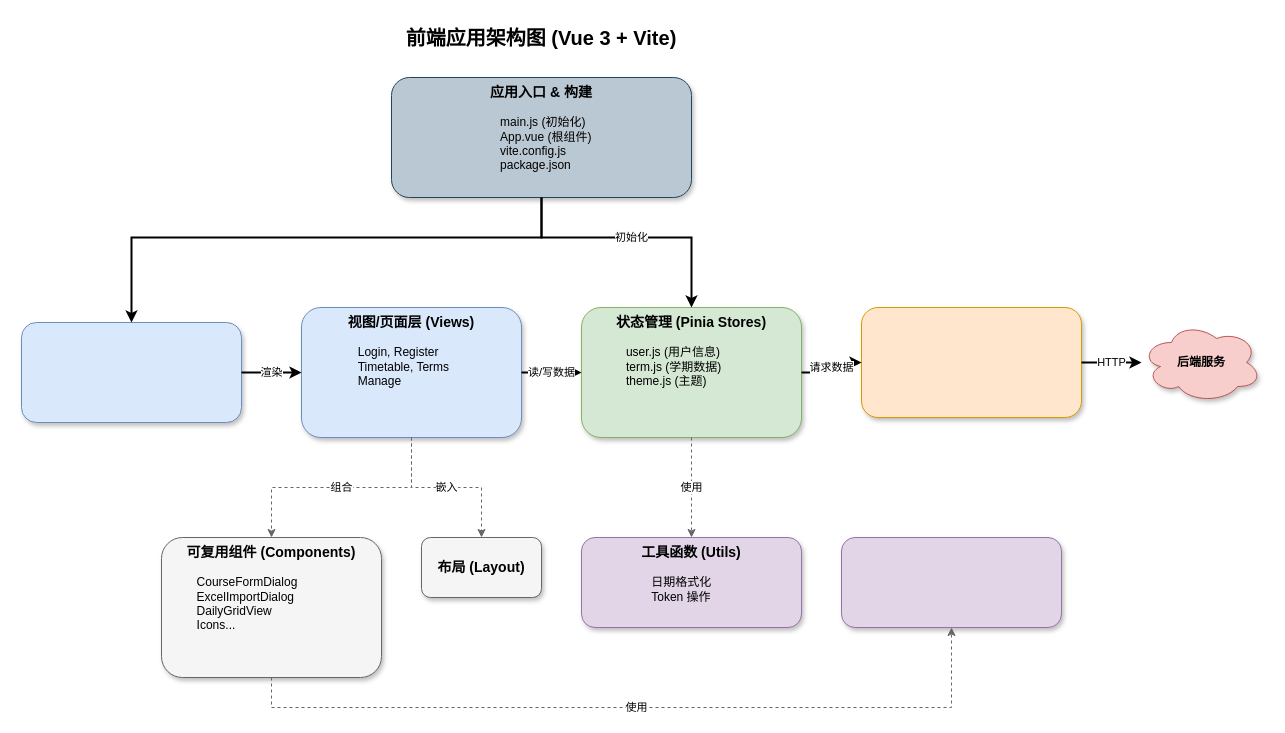
This 1285x733 diagram has some shape labels left out. Each missing label, with the centre of its shape:
"API 请求层 (Axios) request.js (拦截器) auth.js, course.js..." goes at point (972, 363).
"路由系统 (Vue Router) 路由定义 导航守卫" goes at point (132, 374).
"静态资源 (Assets) 全局 CSS 图片, Logo" goes at point (952, 583).
